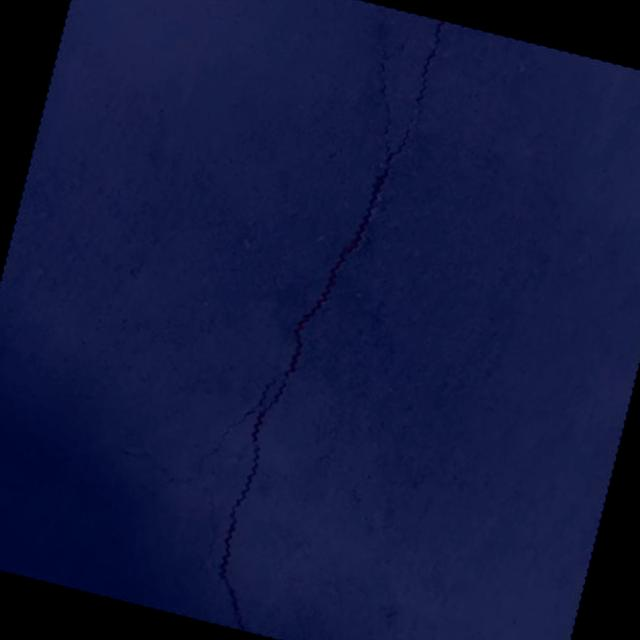crack: (72, 0, 445, 640), (38, 441, 96, 474)
